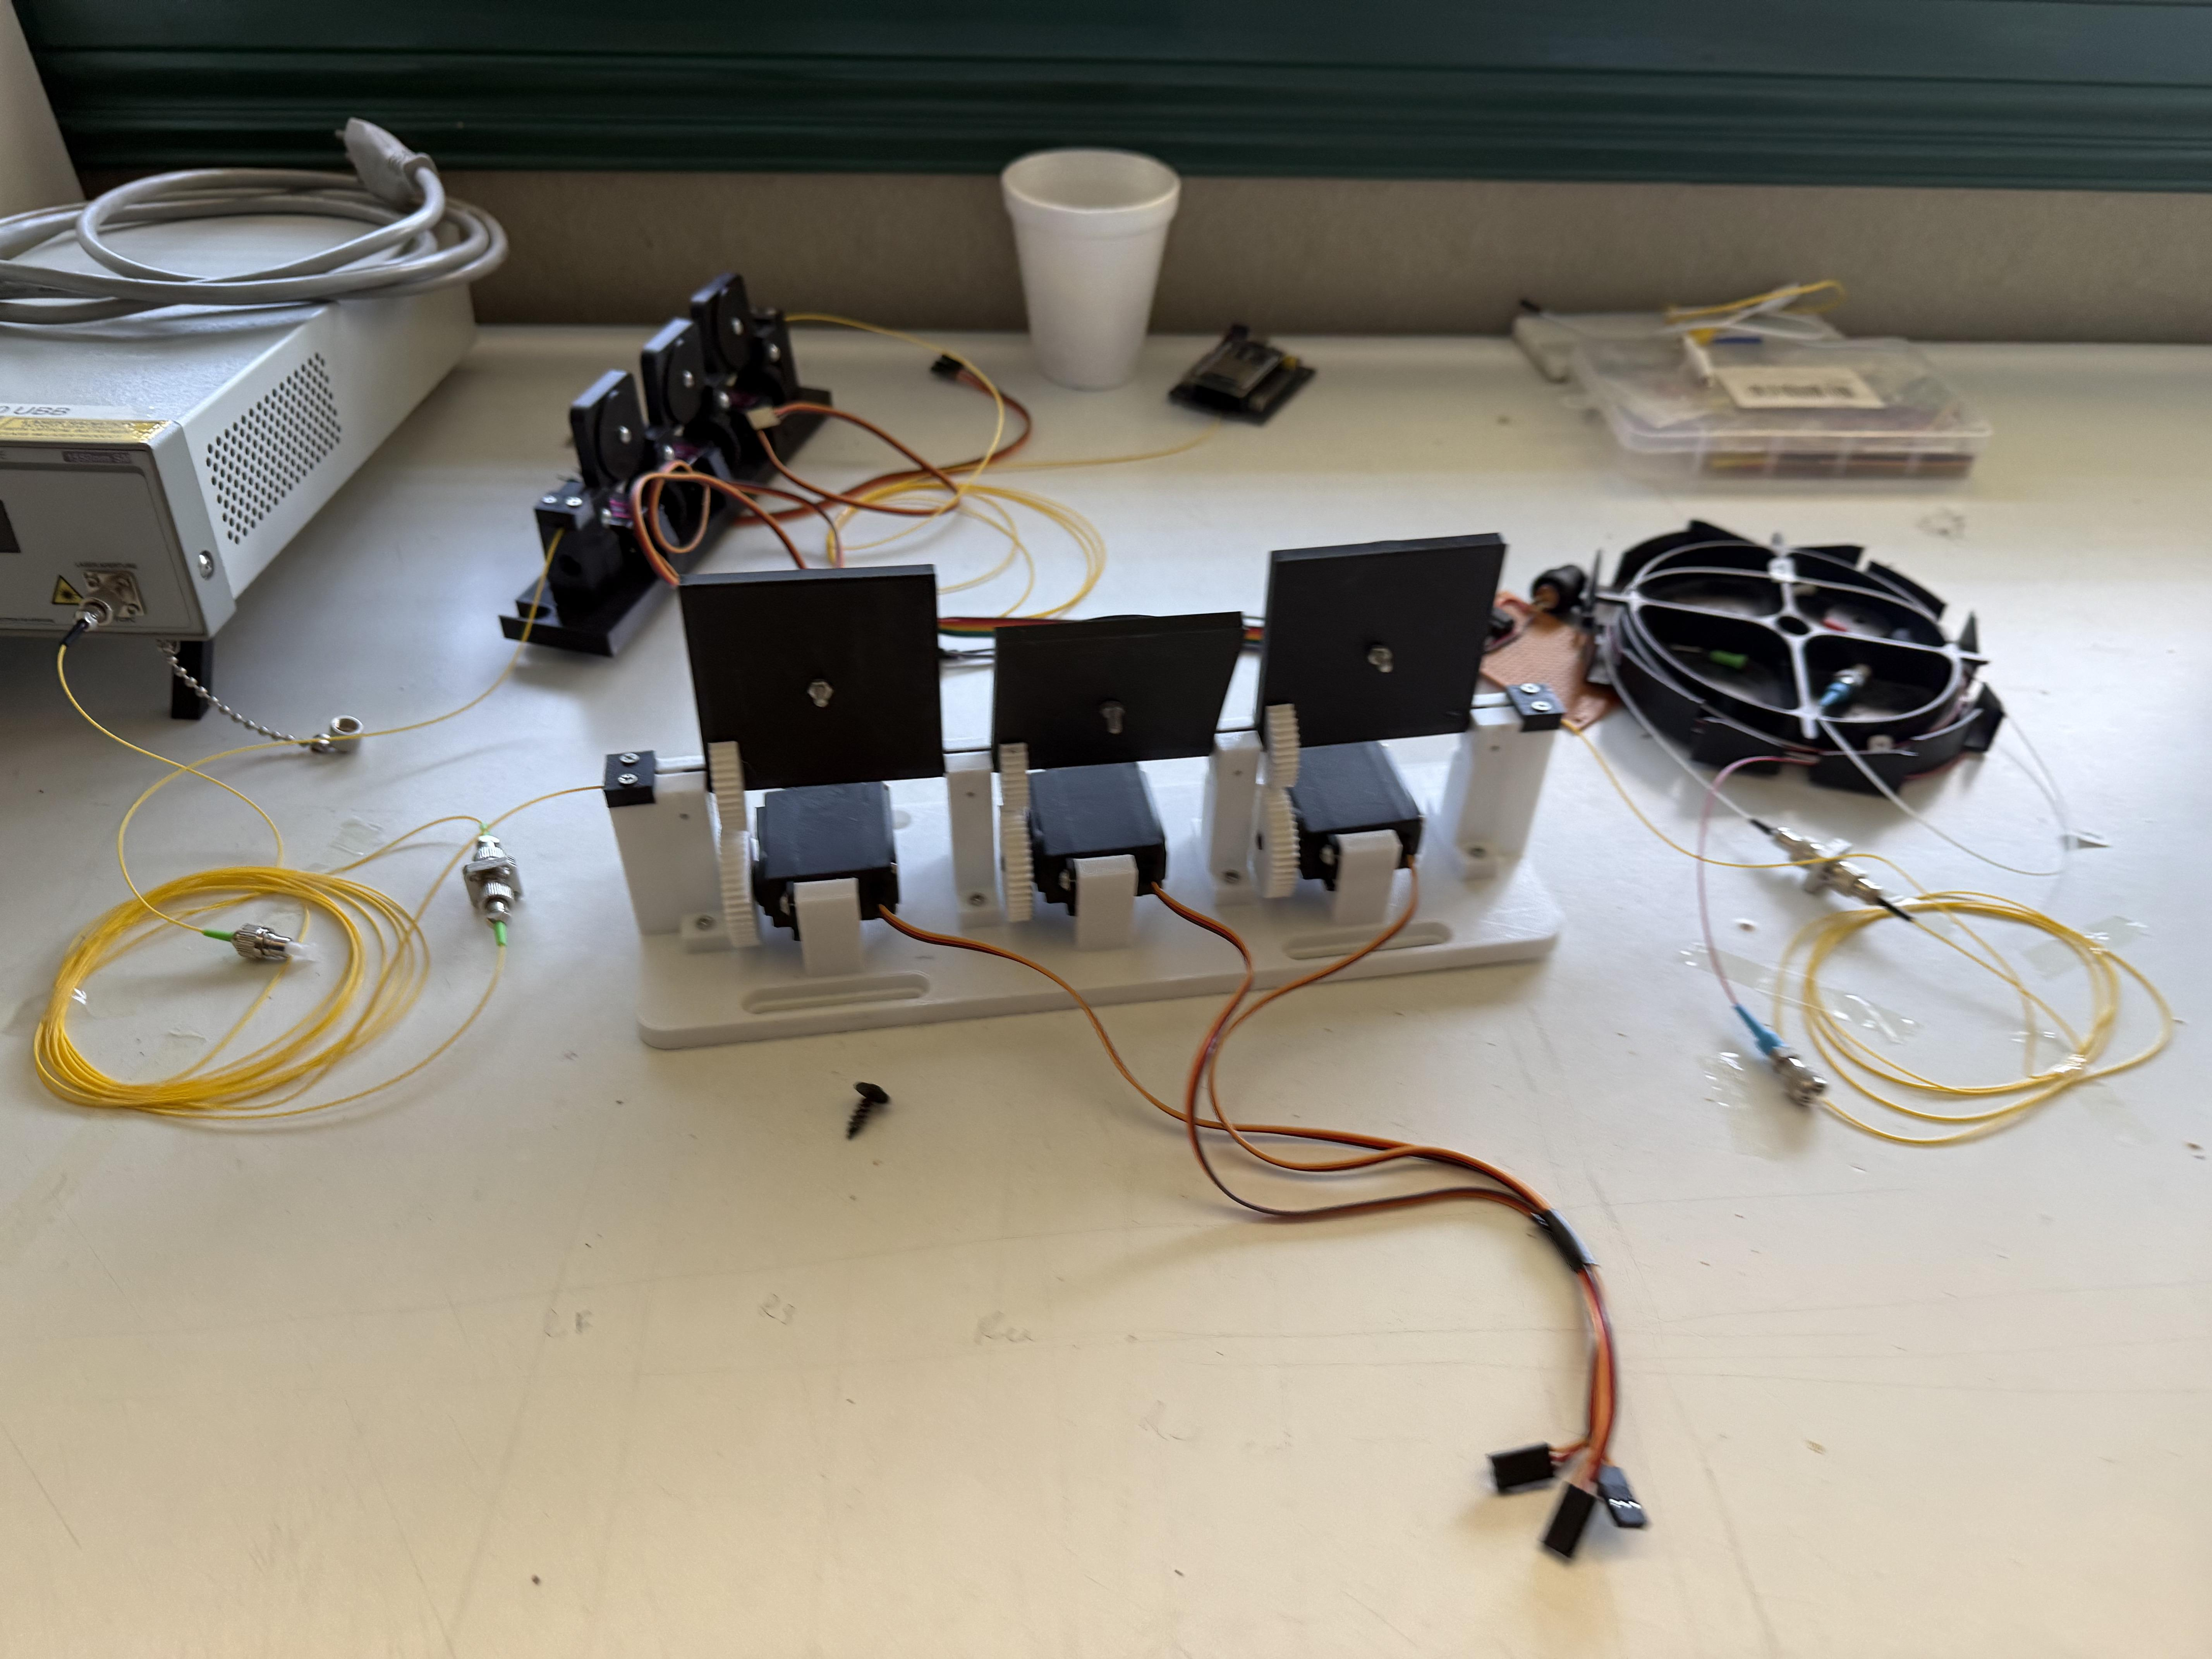fiber_cable: (10, 852, 420, 1133)
paddle_polarization_controller: (557, 533, 1595, 1061), (475, 260, 853, 681)
